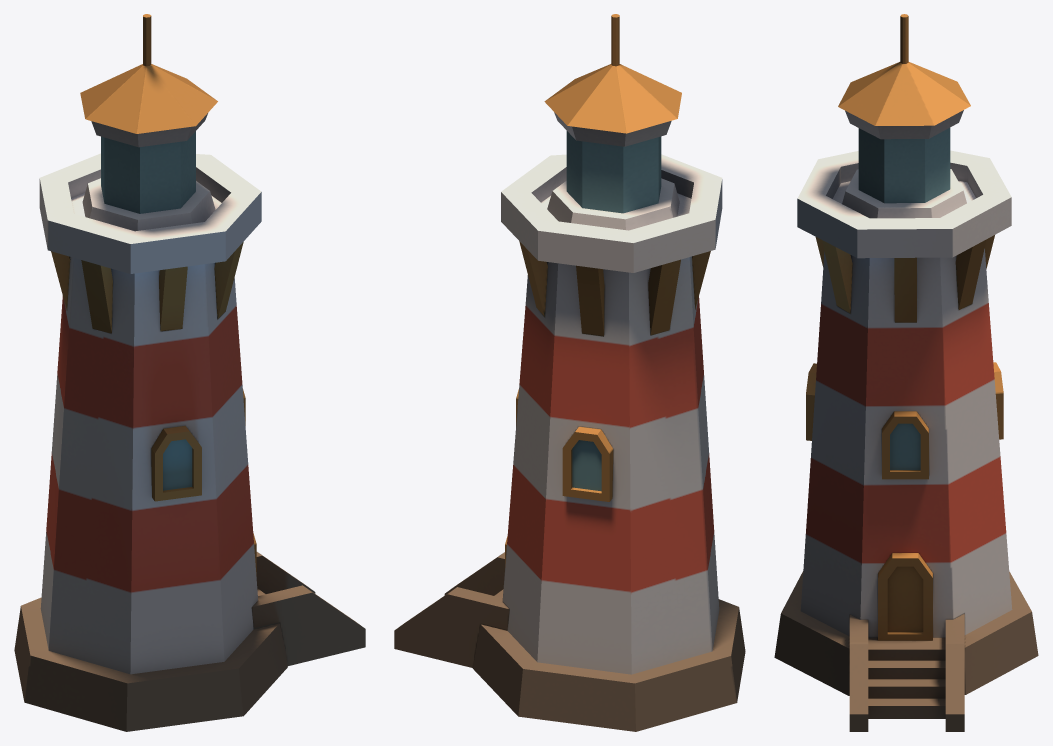
The model's file is Lighthouse.glb.
3 renders of one model, left to right at view 1: azimuth 30°, elevation 25°; view 2: azimuth 150°, elevation 25°; view 3: azimuth 270°, elevation 25°, orthographic. The views are drawn at different scales.
Visible parts, largest first — view 1: lighthouse_Icosphere.029; view 2: lighthouse_Icosphere.029; view 3: lighthouse_Icosphere.029.
Boxes of the visible parts, <box> form: lighthouse_Icosphere.029: <box>14,14,365,731</box>; lighthouse_Icosphere.029: <box>394,14,745,731</box>; lighthouse_Icosphere.029: <box>774,14,1038,731</box>.
Size of the model in its own units: 1.55 by 3.13 by 1.19.
1 material, 1 textured.
